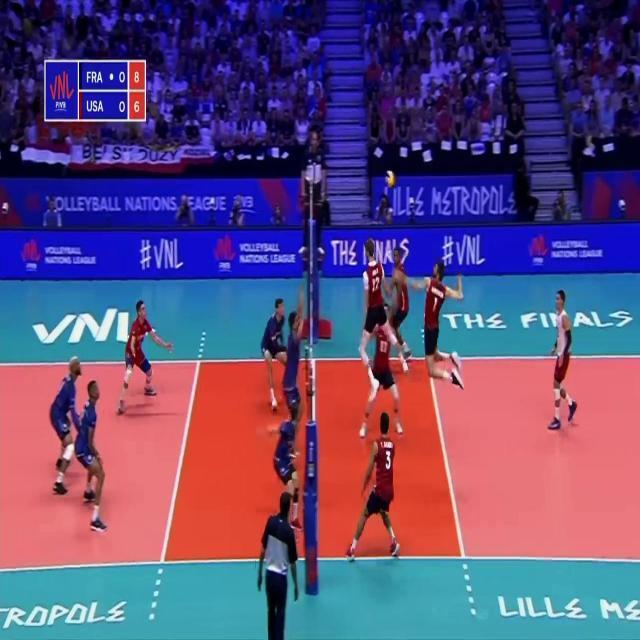volleyball: (385, 170, 396, 188)
